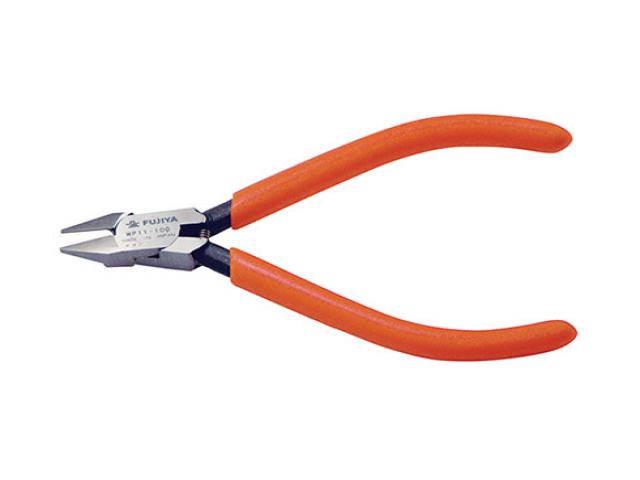Cutting pliers: (61, 114, 576, 360)
